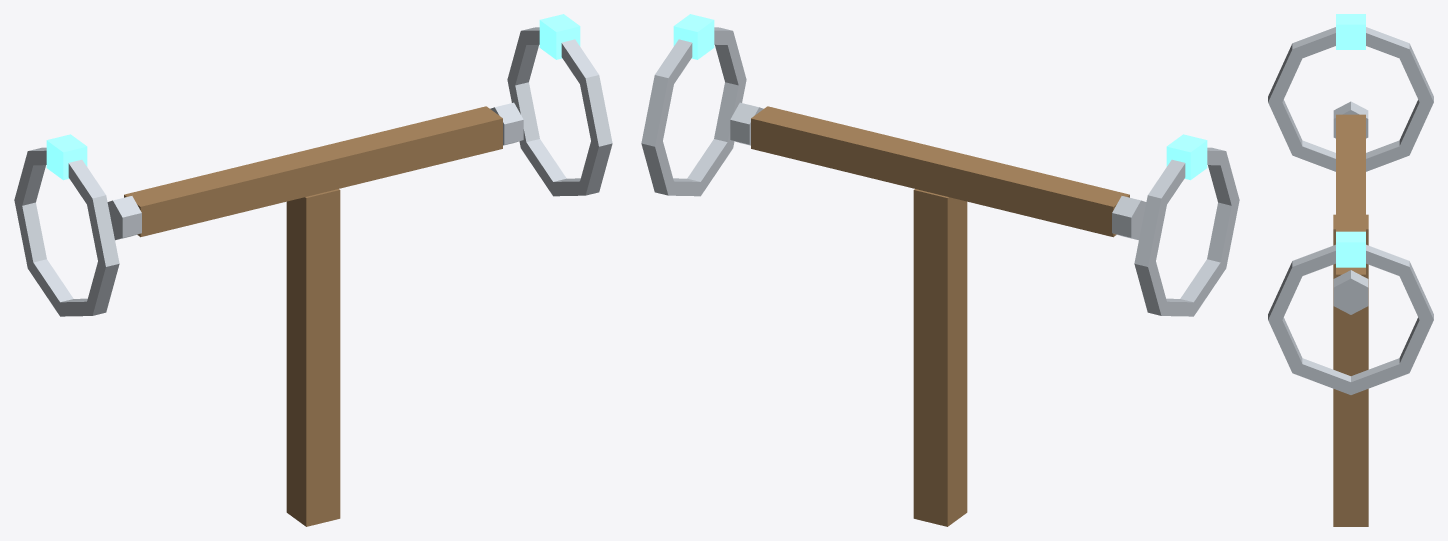
File: Prop_HitchingPost_B.fbx
The picture shows the model from 3 angles, left to right: view 1: azimuth 30°, elevation 25°; view 2: azimuth 150°, elevation 25°; view 3: azimuth 270°, elevation 25°; orthographic projection. The views are drawn at different scales.
Visible parts, largest first — view 1: Prop_HitchingPost_B_Body, Prop_HitchingPost_B_Rings; view 2: Prop_HitchingPost_B_Body, Prop_HitchingPost_B_Rings; view 3: Prop_HitchingPost_B_Rings, Prop_HitchingPost_B_Body.
Boxes of the visible parts, x1,y1,x2,y2 form: Prop_HitchingPost_B_Body: [107, 102, 523, 526]; Prop_HitchingPost_B_Rings: [14, 14, 612, 316]; Prop_HitchingPost_B_Body: [730, 102, 1146, 526]; Prop_HitchingPost_B_Rings: [641, 14, 1239, 316]; Prop_HitchingPost_B_Rings: [1268, 14, 1433, 394]; Prop_HitchingPost_B_Body: [1333, 101, 1368, 526].
Size of the model in its own units: 2.14 by 1.71 by 0.6566.
